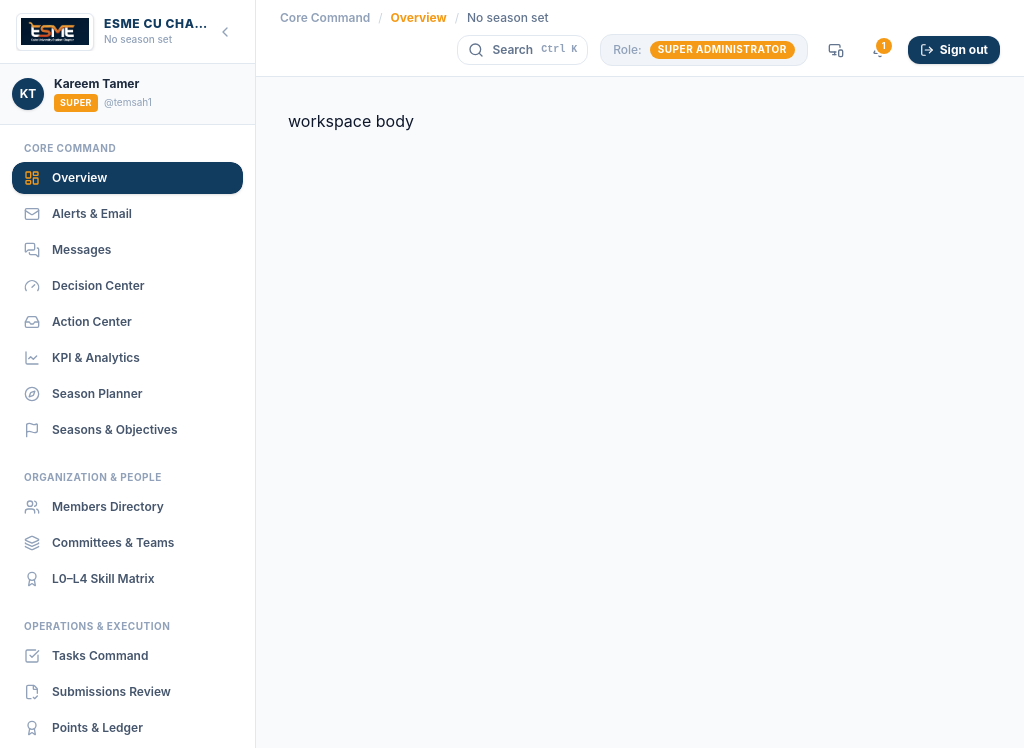
Test: the command palette › says so when nothing matches
Check: the text "workspace body" is shown, box [288,111,414,131]
Type keys "{Control>}k{/Control}"
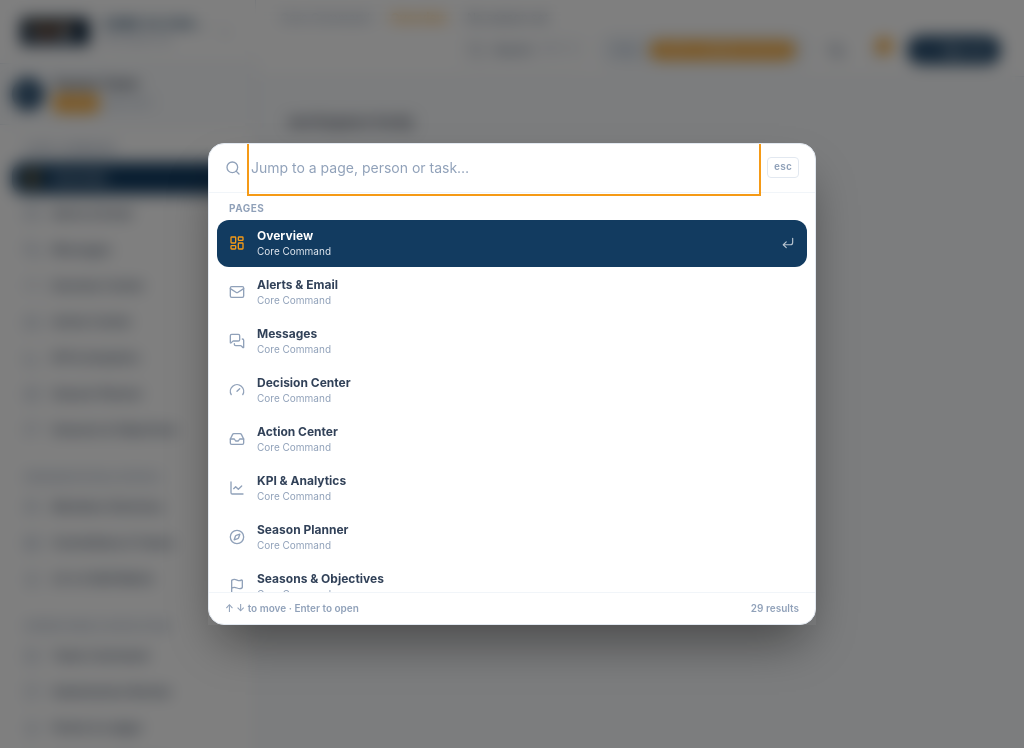
Type "quantum ledger" into the dropdown named "Search pages, people and tasks" at (504, 168), box [251,144,757,192]
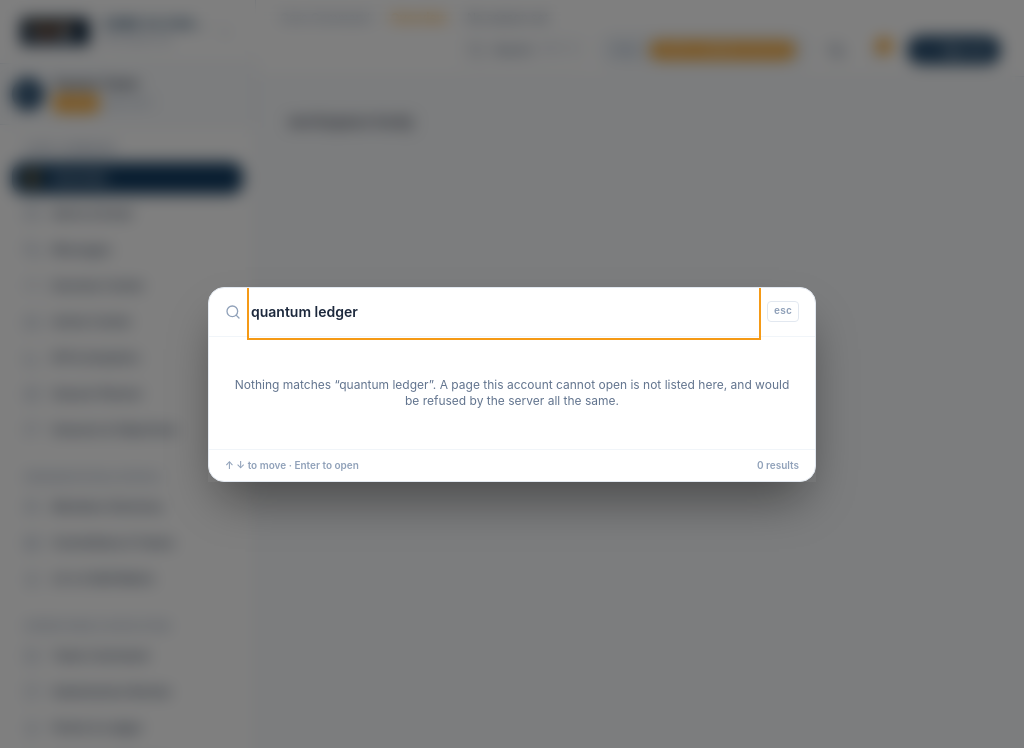
Check: the text "Nothing matches" is shown, box [235,376,339,392]
